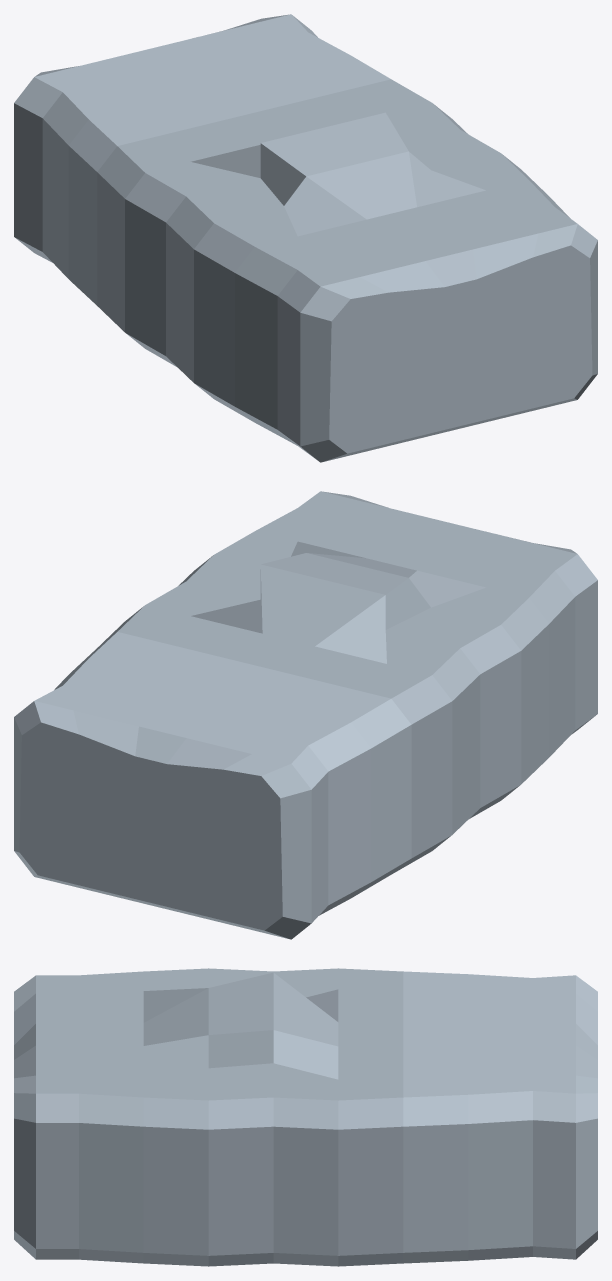
File: pillar_heavy_b.glb
The picture shows the model from 3 angles, top to bottom: view 1: azimuth 30°, elevation 25°; view 2: azimuth 150°, elevation 25°; view 3: azimuth 270°, elevation 25°; orthographic projection. The views are drawn at different scales.
Parts seen in each view (by area): view 1: pillar_heavy_b; view 2: pillar_heavy_b; view 3: pillar_heavy_b.
Boxes of the visible parts, <box> form: pillar_heavy_b: <box>14,14,597,462</box>; pillar_heavy_b: <box>14,491,597,939</box>; pillar_heavy_b: <box>14,968,597,1266</box>.
Bounding box in the file's own units: 4.7 × 2.9 × 7.7.
